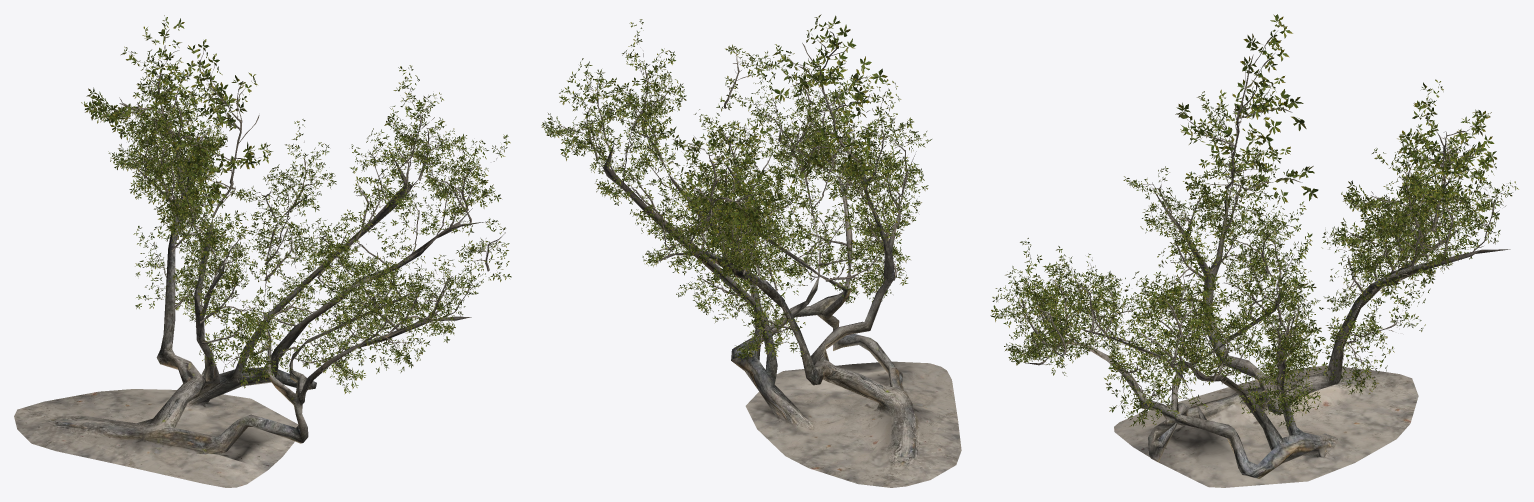
Rendered from crown_03.glb.
The picture shows the model from 3 angles, left to right: view 1: azimuth 30°, elevation 25°; view 2: azimuth 150°, elevation 25°; view 3: azimuth 270°, elevation 25°; orthographic projection. The views are drawn at different scales.
Visible parts, largest first — view 1: island_tree_03_LOD0; view 2: island_tree_03_LOD0; view 3: island_tree_03_LOD0.
Boxes of the visible parts, x1=… form: island_tree_03_LOD0: x1=14, y1=15, x2=511, y2=487; island_tree_03_LOD0: x1=541, y1=14, x2=961, y2=487; island_tree_03_LOD0: x1=990, y1=14, x2=1518, y2=487.
Size of the model in its own units: 2.96 by 2.61 by 2.91.
3 materials, 3 textured.
